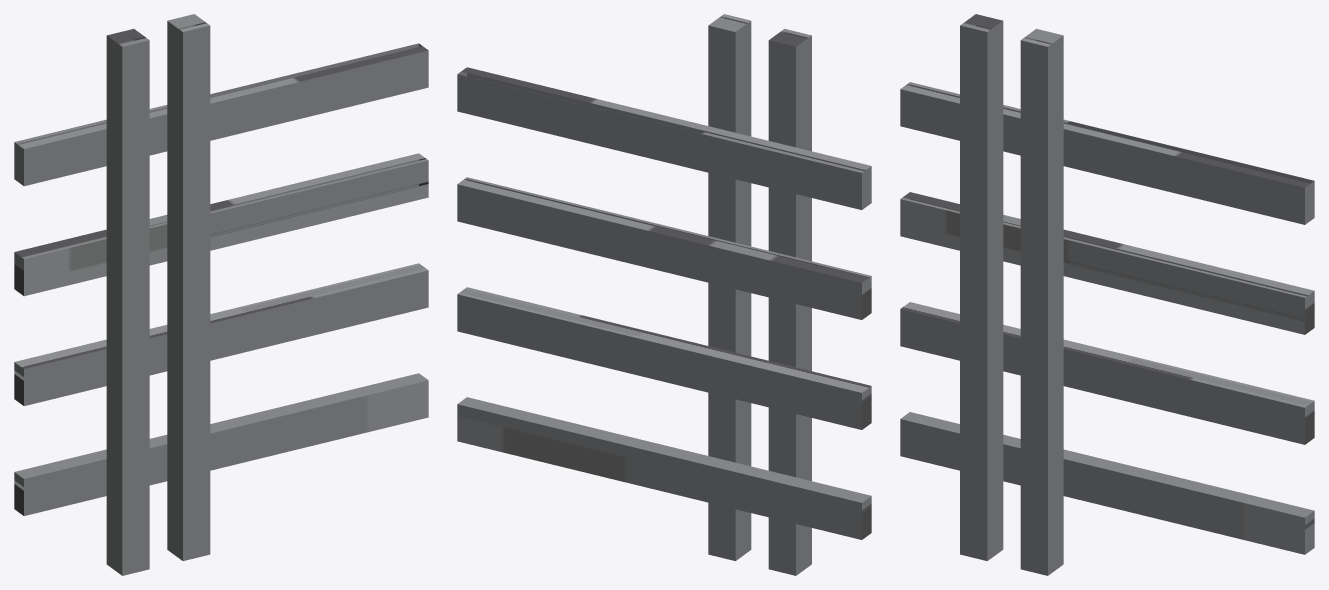
3 renders of one model, left to right at view 1: azimuth 30°, elevation 25°; view 2: azimuth 150°, elevation 25°; view 3: azimuth 330°, elevation 25°, orthographic.
Bounding box in the file's own units: 0.8165 × 1.02 × 0.1015.
